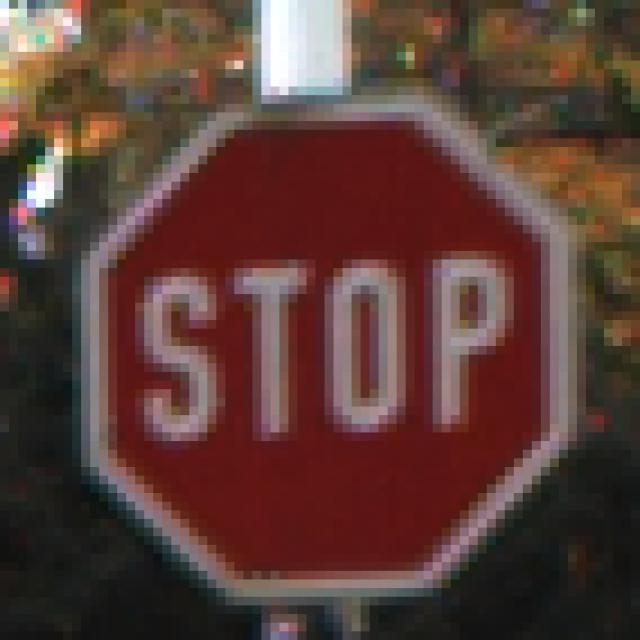STOP: (55, 62, 578, 589)
